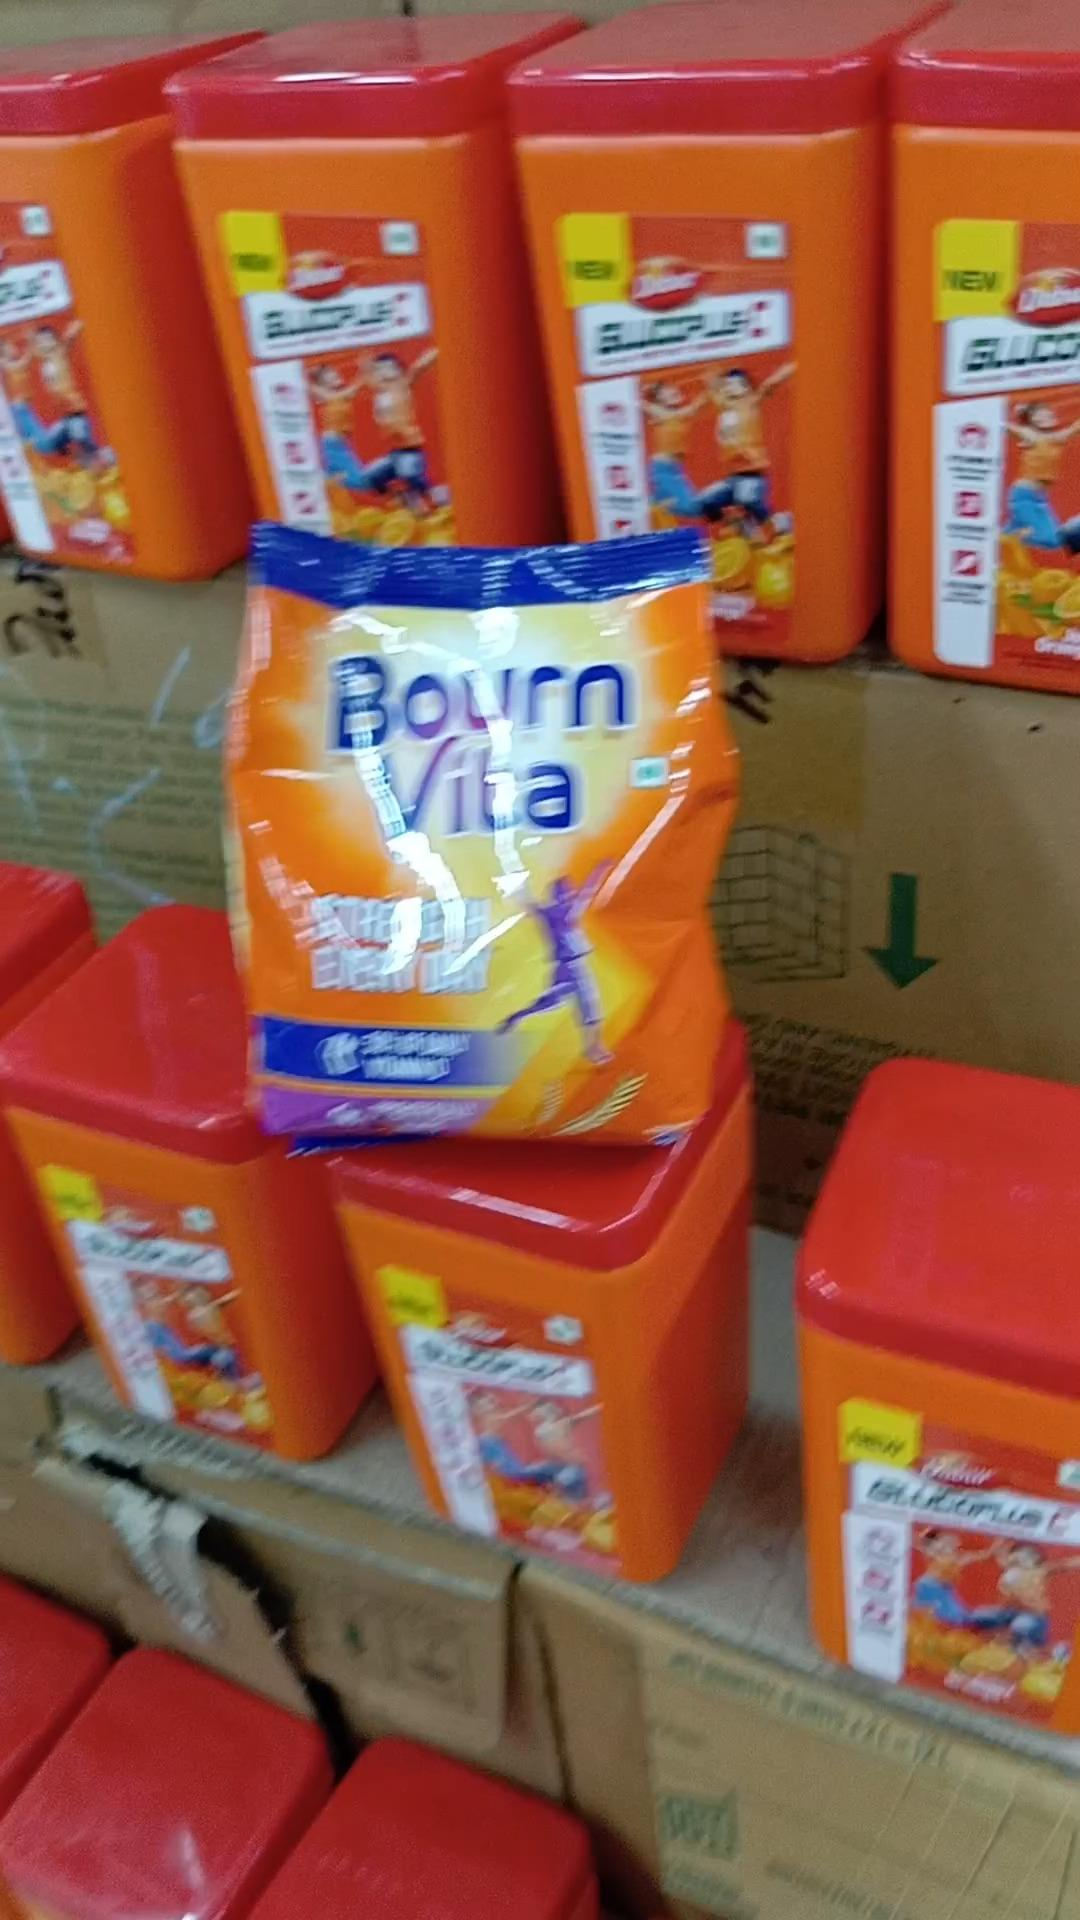BOURN_VITA_500_G_POUCH: (235, 510, 711, 1155)
